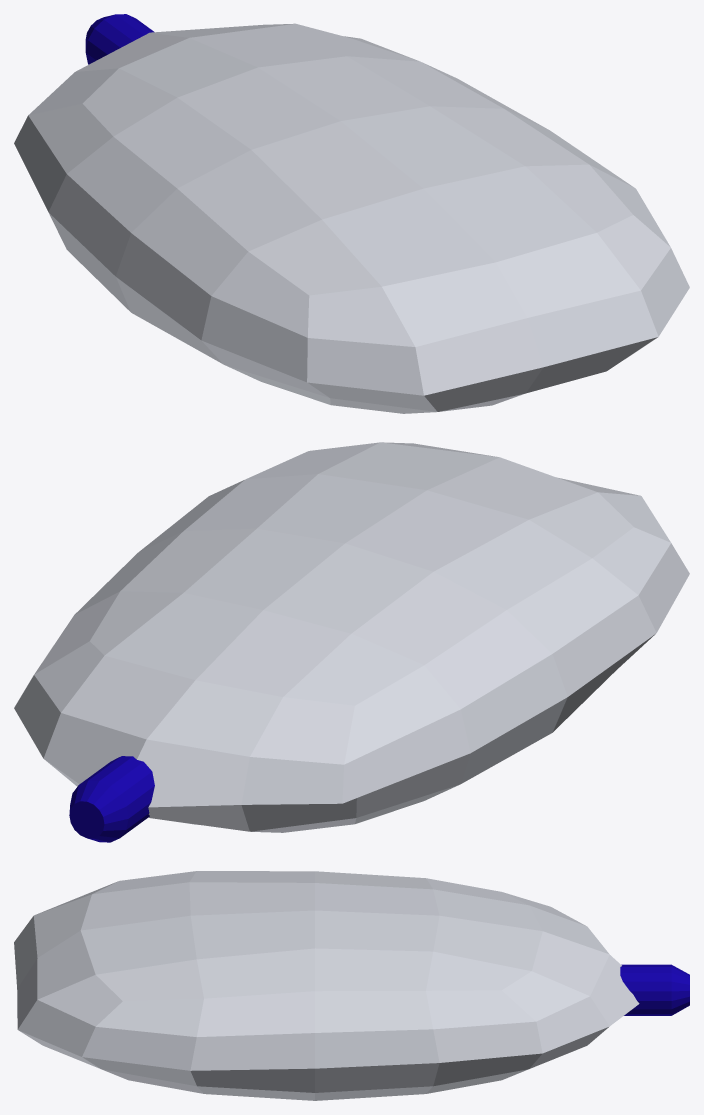
Rendered from gel.fbx.
3 renders of one model, top to bottom at view 1: azimuth 30°, elevation 25°; view 2: azimuth 150°, elevation 25°; view 3: azimuth 270°, elevation 25°, orthographic. The views are drawn at different scales.
Visible parts, largest first — view 1: Cube, Cylinder; view 2: Cube, Cylinder; view 3: Cube, Cylinder.
Part boxes in pixels (box(x1,y1,x2,y2)): Cube: box(14, 23, 689, 413); Cylinder: box(85, 14, 154, 64); Cube: box(14, 442, 689, 832); Cylinder: box(69, 756, 154, 842); Cube: box(14, 871, 639, 1100); Cylinder: box(620, 964, 689, 1015).
Bounding box in the file's own units: 171 × 71.67 × 290.
